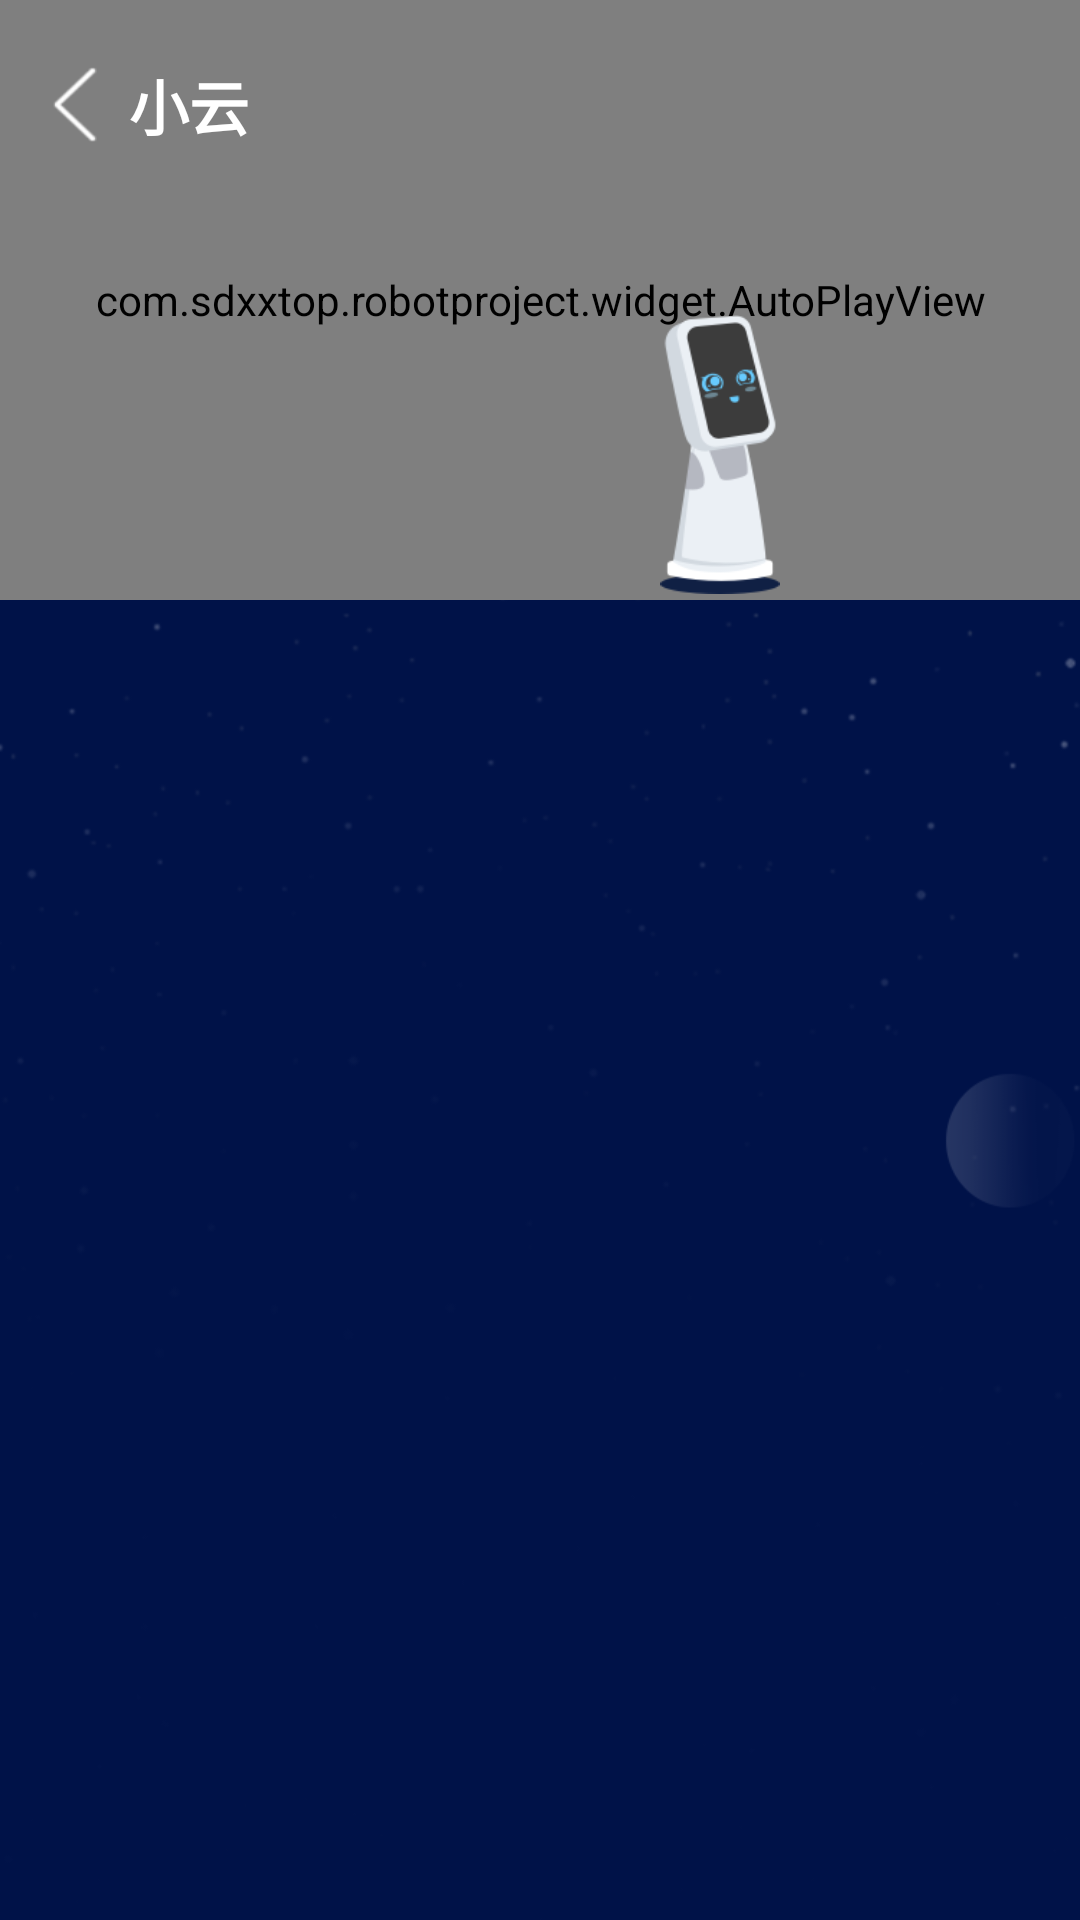

Icon bounding boxes for this 1080w x 1920h phone screenshot, format detection(x1, y1, x2, y2):
chat left back: detection(54, 68, 96, 141)
map robot: detection(660, 315, 780, 594)
